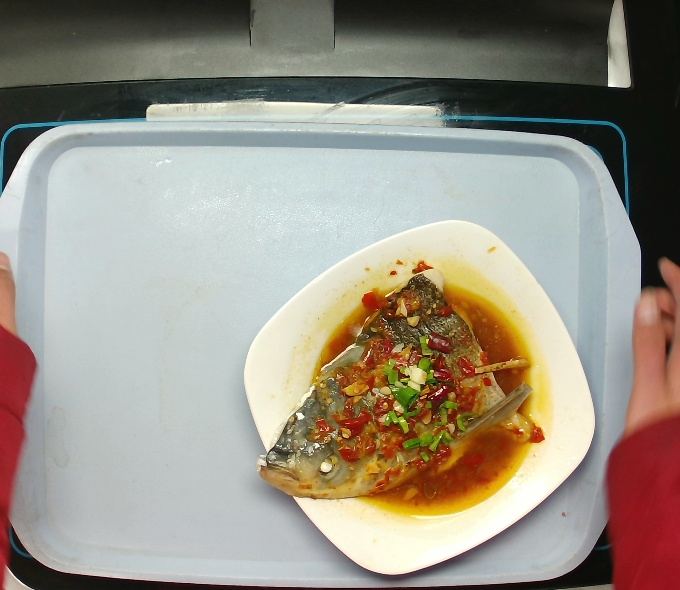wcq-DuoJiaoYuTou: (237, 262, 533, 508)
